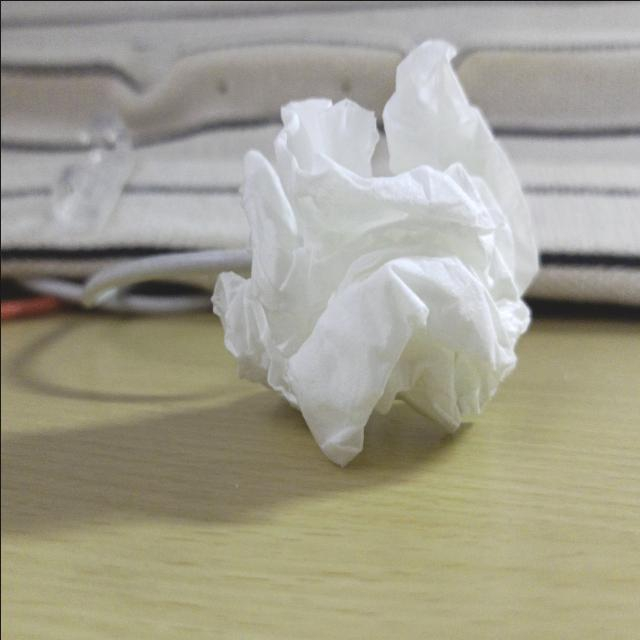Paper: (221, 37, 543, 464)
